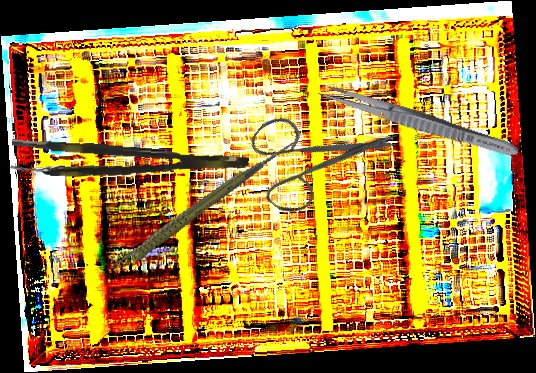Dressing Forceps: (315, 80, 522, 162)
Handpiece: (96, 169, 260, 273)
Iris Scissors: (227, 64, 404, 243)
Spatula Surgical: (97, 99, 308, 310)
Tissue Forceps: (10, 137, 249, 190)
